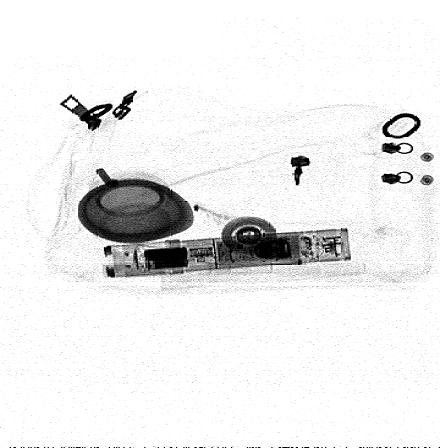Baton: (102, 226, 351, 279)
